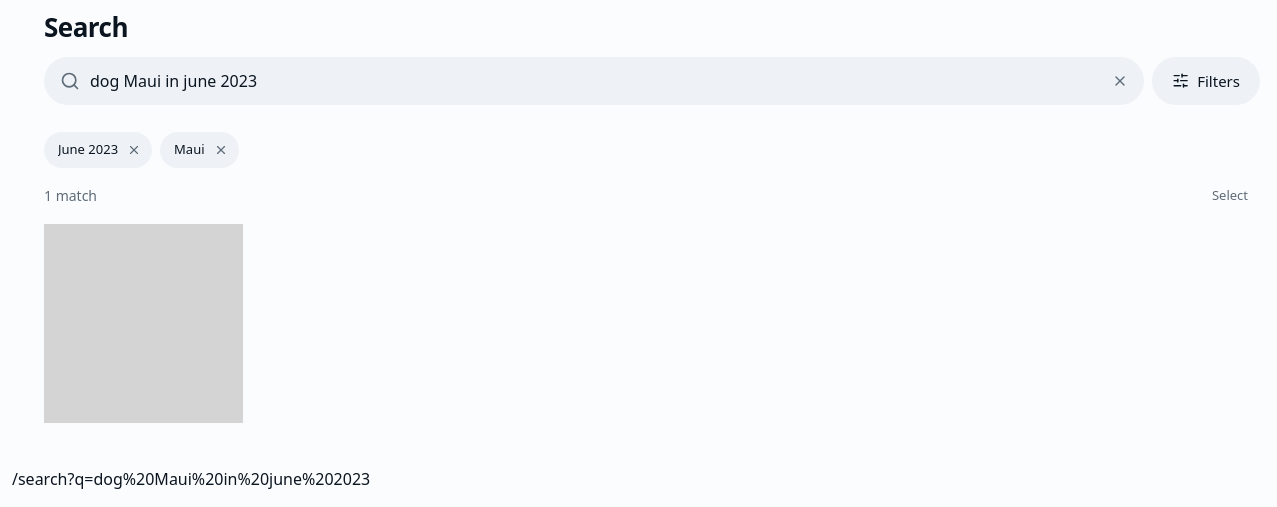
it: Search page › shows what was read out of the query as chips, and removing one searches again with it left in the text
The width and height of the screenshot is (1277, 507).
Expected: the text "June 2023" is shown, [58, 140, 118, 160]
Expected: the text "Maui" is shown, [174, 140, 205, 160]
Click the button named "Remove date June 2023" at (134, 150), box [120, 136, 148, 164]
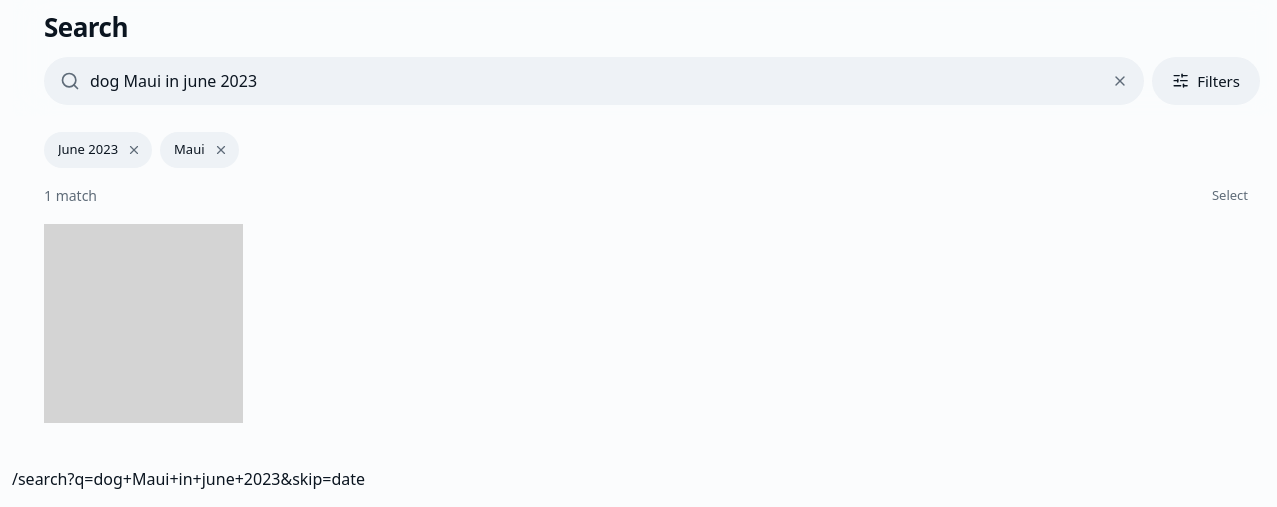
Now the text with test id "where" shows "skip=date", box [12, 468, 365, 490]
Now the text with test id "where" shows "q=dog+Maui+in+june+2023", box [12, 468, 365, 490]
